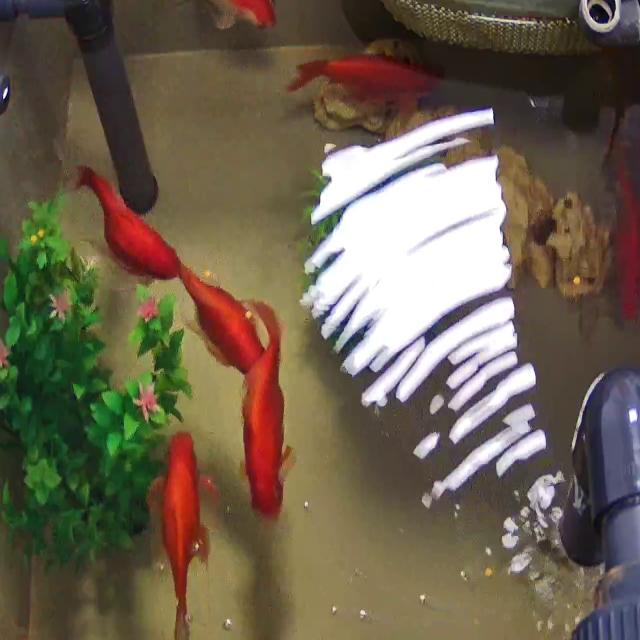fish: (143, 413, 213, 640), (232, 297, 303, 515), (56, 152, 179, 274), (298, 44, 455, 106), (170, 263, 264, 362), (612, 137, 640, 319), (134, 0, 286, 26)
